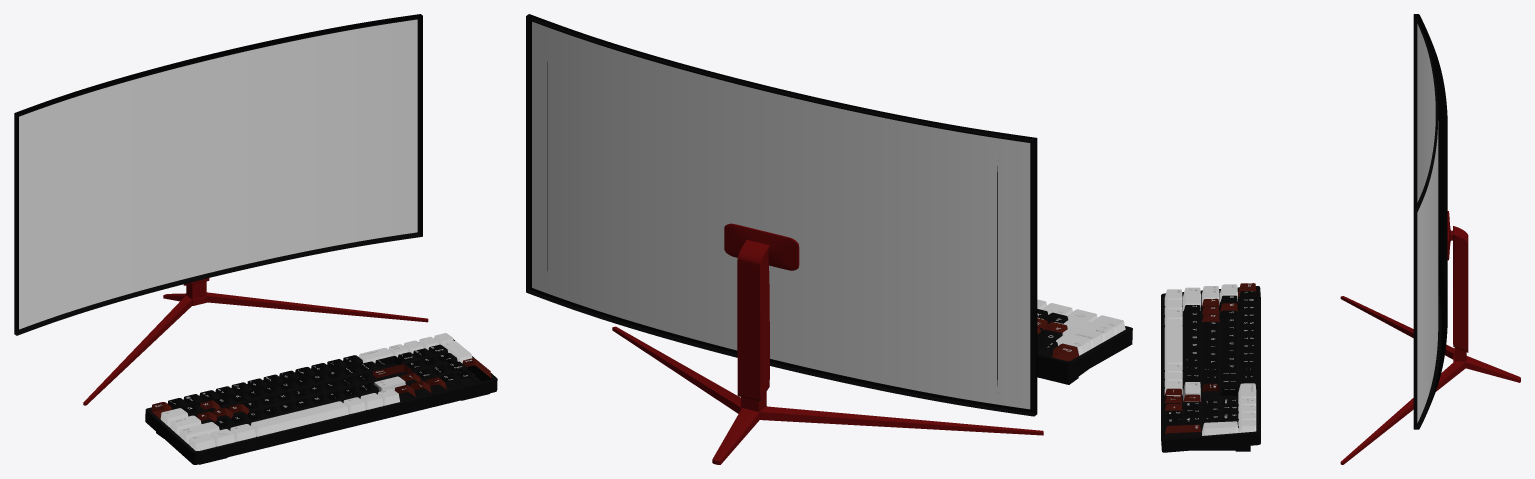
The model's file is pc-mingtu.glb.
3 renders of one model, left to right at view 1: azimuth 30°, elevation 25°; view 2: azimuth 150°, elevation 25°; view 3: azimuth 270°, elevation 25°, orthographic. The views are drawn at different scales.
Visible parts, largest first — view 1: Plane.001, base.001, Black Keys.001, Grey Keys.001, Cube.004, Red keys.001, Letters.001; view 2: Plane.001, Cube.003, Cube.004, base.001, Grey Keys.001, Cube.005, Black Keys.001, Red keys.001; view 3: Plane.001, Black Keys.001, base.001, Grey Keys.001, Cube.003, Cube.004, Red keys.001, Letters.001, Cube.005.
Part boxes in pixels (x1,y1,x2,y2): Plane.001: [14, 14, 422, 335]; base.001: [145, 339, 497, 464]; Black Keys.001: [167, 344, 476, 427]; Grey Keys.001: [160, 333, 472, 450]; Cube.004: [83, 292, 428, 405]; Red keys.001: [151, 358, 491, 422]; Letters.001: [155, 335, 471, 438]; Plane.001: [526, 14, 1037, 416]; Cube.003: [724, 223, 799, 411]; Cube.004: [612, 326, 1043, 435]; base.001: [1037, 318, 1132, 384]; Grey Keys.001: [1037, 299, 1125, 355]; Cube.005: [712, 408, 759, 464]; Black Keys.001: [1037, 309, 1068, 349]; Red keys.001: [1037, 318, 1078, 360]; Plane.001: [1413, 14, 1447, 429]; Black Keys.001: [1164, 291, 1256, 426]; base.001: [1161, 286, 1260, 452]; Grey Keys.001: [1164, 284, 1256, 435]; Cube.003: [1447, 211, 1468, 361]; Cube.004: [1340, 296, 1466, 464]; Red keys.001: [1164, 283, 1256, 433]; Letters.001: [1169, 283, 1253, 428]; Cube.005: [1466, 356, 1520, 382].
Size of the model in its own units: 3.85 by 2.46 by 2.97.
